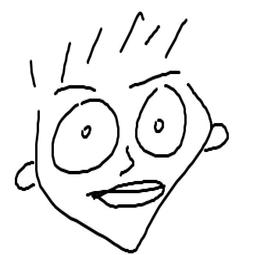ear: (201, 114, 234, 155), (12, 158, 43, 192)
eye: (50, 95, 121, 177), (134, 80, 189, 161)
eyebrow: (52, 82, 99, 97)
frowning_eyebrow: (122, 67, 188, 91)
open_mouth: (95, 177, 168, 210)
pointy_nose: (117, 144, 138, 176)
